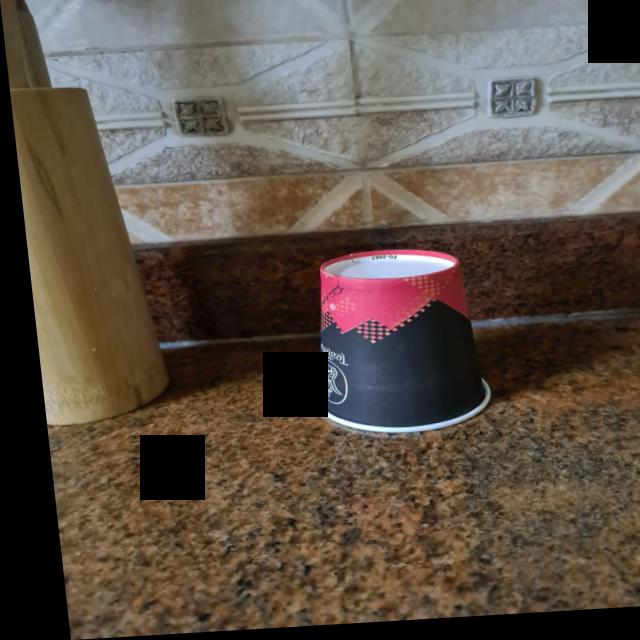cups: (288, 252, 493, 437)
